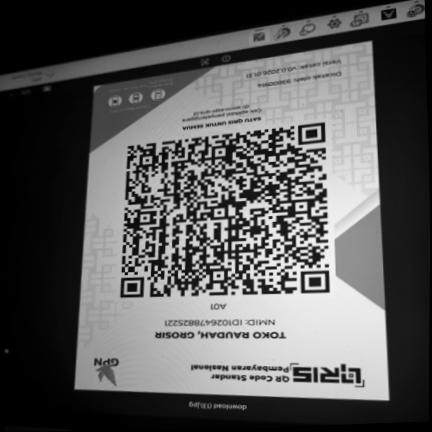Cara Pakai QRIS: (94, 74, 178, 119)
Cek Aplikasi Penyelenggara: (176, 101, 267, 125)
Dicetak Oleh: (252, 69, 344, 91)
Logo GPN: (88, 352, 126, 388)
Logo dan deskripsi QRIS: (185, 358, 373, 393)
Nama Merchant: (149, 329, 292, 342)
National Merchant ID: (149, 316, 293, 328)
QR Code: (113, 116, 337, 300)
Slogan: (176, 114, 266, 133)
Terminal ID: (205, 302, 232, 311)
Versi Cetak: (244, 55, 347, 81)
